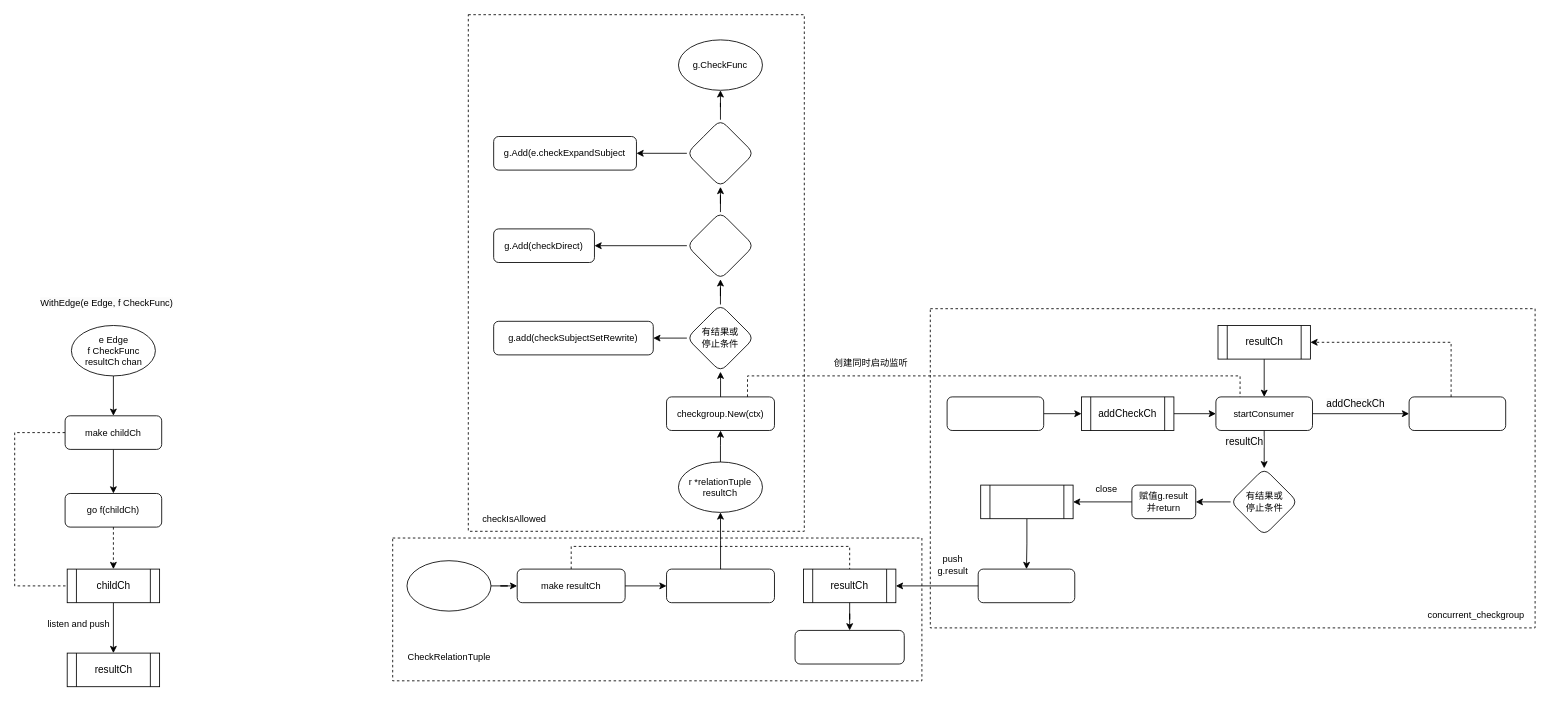
This 1550x701 diagram has some shape labels left out. Here are the shapes that lost their labels. From the top down, the centre of each, then its label:
At (720,153): "canHave SubjectSets".
At (720,245): "can direct".
At (995,413): "Add(CheckFunc)".
At (1457,413): "go check(resultCh)".
At (1026,501): "doneCh".
At (448,585): "r *relationTuple".
At (720,585): "go e.checkIsAllowed (r *relationTuple, resultCh)".
At (1026,585): "CheckFunc".
At (849,647): "return".
